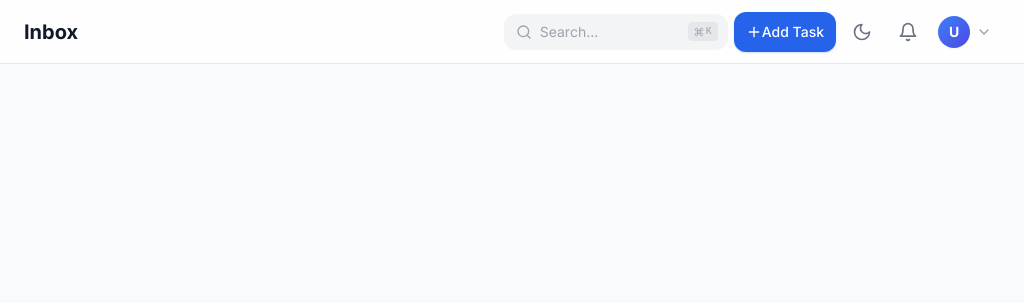
it: Header notifications › shows an empty state when there are no notifications
Click the button named "Notifications". click: (908, 32)
box: [888, 12, 928, 52]
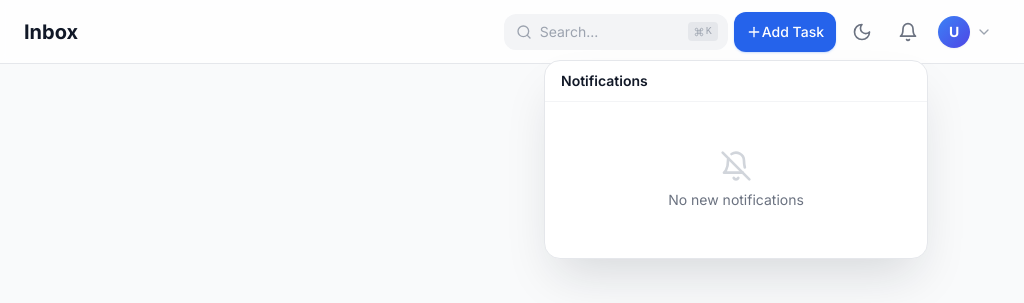
Expected: the text "No new notifications" is shown, [668, 190, 804, 210]
